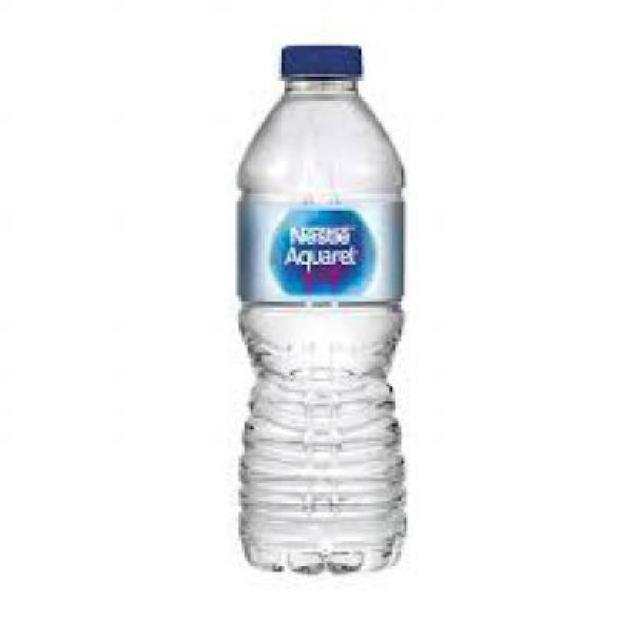plastic_bottle: (236, 44, 408, 577)
